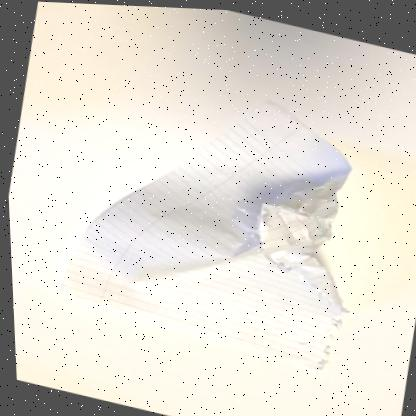Paper: (56, 98, 348, 366)
